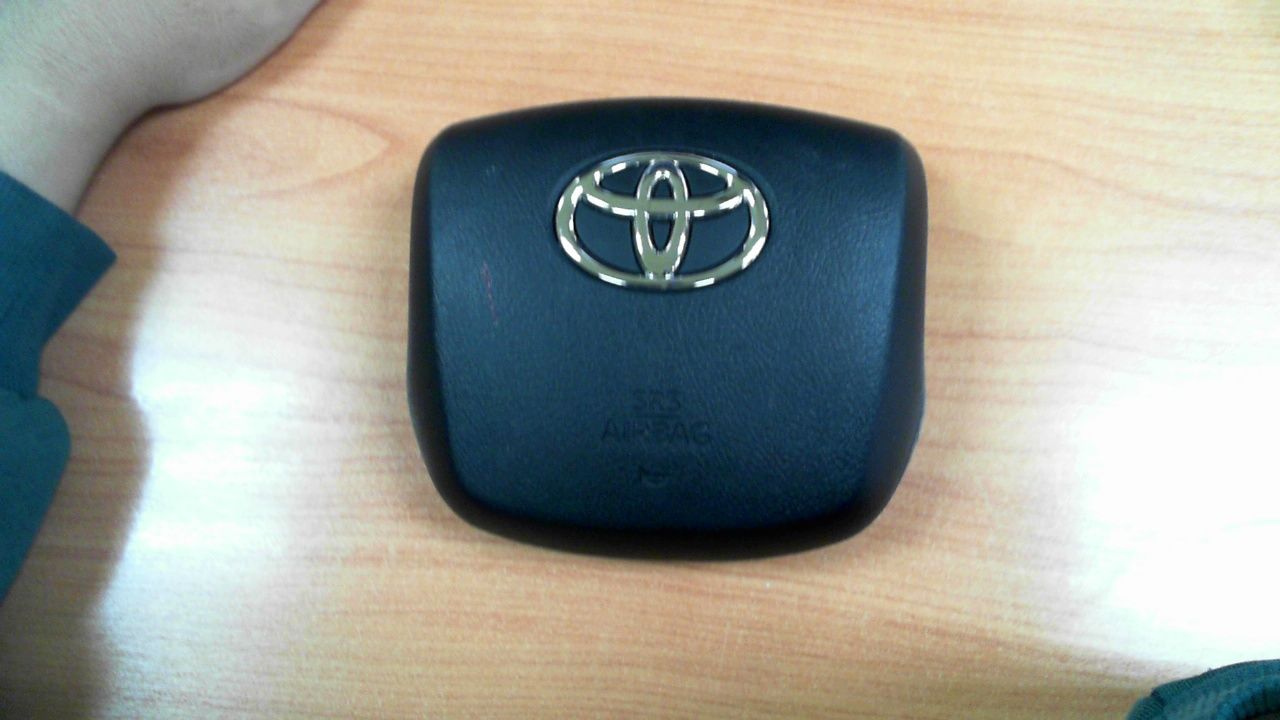Airbag: (406, 98, 929, 563)
Toyota: (555, 151, 770, 289)
